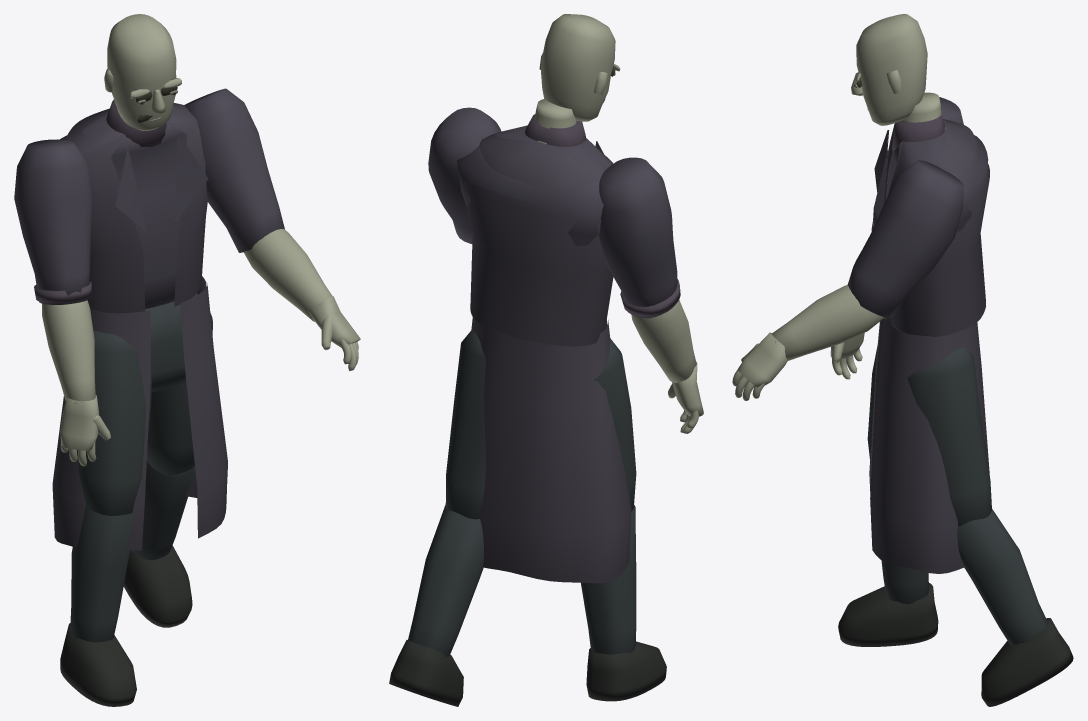
The model's file is enemy-lab-champion.glb.
3 renders of one model, left to right at view 1: azimuth 30°, elevation 25°; view 2: azimuth 150°, elevation 25°; view 3: azimuth 270°, elevation 25°, orthographic. The views are drawn at different scales.
Visible parts, largest first — view 1: Supervisor coat tails, Supervisor coat, Supervisor sleeve_UpperArm_L, Supervisor sleeve_UpperArm_R, Trouser thigh_L, Chest, Trouser shin_L, Anatomical head, Shoe_L, Forearm anatomy_L, Shoe_R, Forearm anatomy_R (+9 smaller); view 2: Supervisor coat tails, Supervisor coat, Supervisor sleeve_UpperArm_L, Trouser shin_R, Anatomical head, Trouser thigh_R, Chest, Supervisor sleeve_UpperArm_R, Trouser shin_L, Shoe_L, Shoe_R, Forearm anatomy_L (+5 smaller); view 3: Supervisor coat tails, Supervisor sleeve_UpperArm_R, Supervisor coat, Trouser thigh_R, Trouser shin_R, Anatomical head, Shoe_L, Shoe_R, Forearm anatomy_R, Chest, Palm_R, Trouser shin_L (+3 smaller).
Part boxes in pixels (box(x1,y1,x2,y2)): Supervisor coat tails: box(52, 276, 227, 550); Supervisor coat: box(65, 103, 207, 313); Supervisor sleeve_UpperArm_L: box(14, 139, 91, 304); Supervisor sleeve_UpperArm_R: box(184, 88, 284, 252); Trouser thigh_L: box(77, 330, 151, 515); Chest: box(60, 105, 195, 308); Trouser shin_L: box(70, 506, 134, 642); Anatomical head: box(107, 14, 176, 130); Shoe_L: box(60, 623, 136, 706); Forearm anatomy_L: box(42, 300, 95, 403); Shoe_R: box(123, 545, 192, 627); Forearm anatomy_R: box(243, 229, 334, 321); Supervisor coat tails: box(471, 317, 631, 583); Supervisor coat: box(460, 134, 613, 346); Supervisor sleeve_UpperArm_L: box(599, 157, 677, 318); Trouser shin_R: box(408, 505, 483, 656); Anatomical head: box(541, 14, 615, 121); Trouser thigh_R: box(445, 330, 485, 519); Chest: box(457, 125, 612, 246); Supervisor sleeve_UpperArm_R: box(428, 107, 501, 243); Trouser shin_L: box(581, 505, 636, 654); Shoe_L: box(586, 641, 666, 701); Shoe_R: box(389, 640, 463, 706); Forearm anatomy_L: box(631, 300, 696, 383); Supervisor coat tails: box(869, 317, 989, 573); Supervisor sleeve_UpperArm_R: box(847, 160, 963, 318); Supervisor coat: box(885, 119, 989, 336); Trouser thigh_R: box(907, 348, 991, 526); Trouser shin_R: box(957, 509, 1047, 645); Anatomical head: box(856, 14, 927, 125); Shoe_L: box(838, 583, 938, 646); Shoe_R: box(981, 618, 1073, 706); Forearm anatomy_R: box(771, 285, 884, 360); Chest: box(892, 120, 988, 235); Palm_R: box(737, 332, 787, 387); Trouser shin_L: box(881, 560, 928, 604).
Size of the model in its own units: 0.7106 by 1.78 by 0.849.
